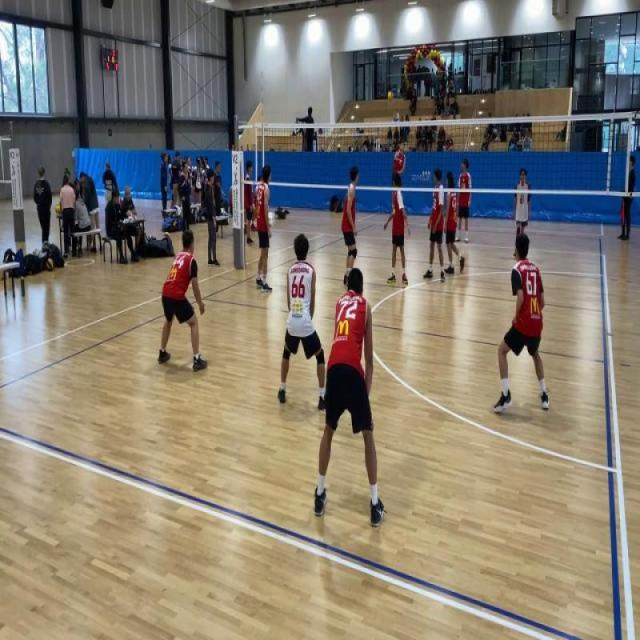volleyball: (46, 258, 54, 271), (387, 90, 394, 102), (55, 203, 62, 214), (147, 233, 154, 240), (163, 232, 170, 238)
